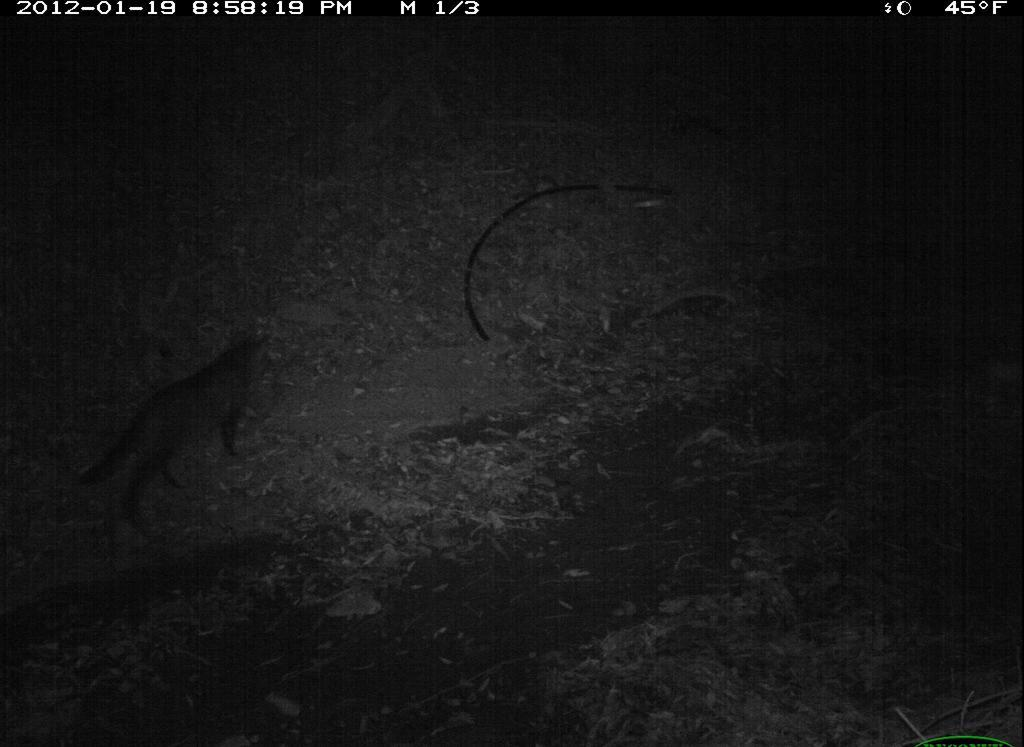cat: (63, 324, 289, 565)
